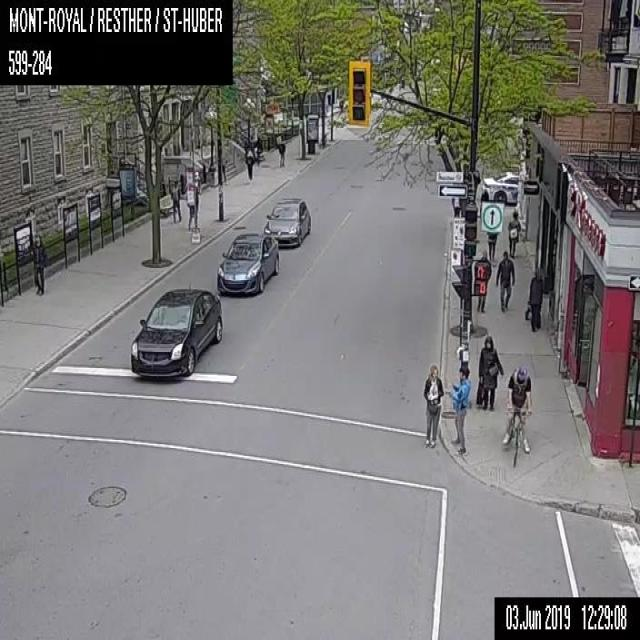cyclist: (499, 361, 531, 467)
pedestrian: (474, 334, 504, 410), (449, 364, 472, 456), (423, 362, 443, 447), (524, 269, 543, 331), (495, 251, 514, 312), (476, 248, 490, 312), (32, 235, 44, 293), (507, 210, 520, 257), (186, 182, 198, 230), (170, 178, 181, 222), (486, 231, 496, 261), (245, 148, 253, 180), (278, 138, 284, 166)
vehicle: (129, 289, 222, 376), (217, 232, 278, 292), (262, 197, 310, 246), (480, 171, 520, 205)
